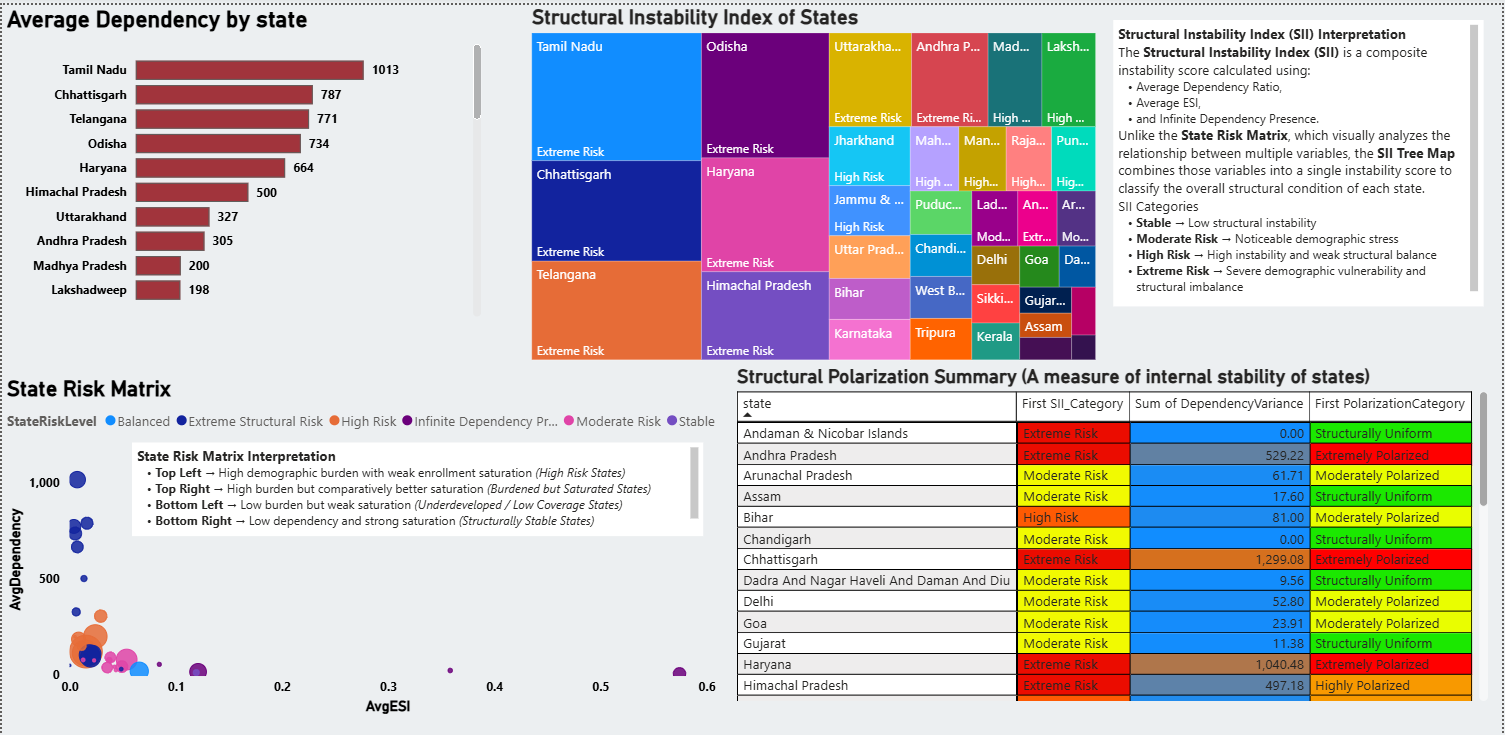

Layout of this report page (visuals, bound fields, positions):
{"tool":"powerbi","page":{"name":"Structural Instability & Risk Analytics","canvas":[1500,730],"ordinal":1},"visuals":[{"type":"barChart","title":"Average Dependency by state","fields":{"Category":["StateSummary.state"],"Y":["Sum(StateSummary.AvgDependency)"]},"box":[0,0,484.2,316.7],"z":0},{"type":"scatterChart","title":"State Risk Matrix","fields":{"X":["StateSummary.AvgESI"],"Y":["StateSummary.AvgDependency"],"Size":["Sum(StateSummary.TotalEnrollment)"],"Series":["StateSummary.StateRiskLevel"]},"box":[0,371.2,718.8,342.5],"z":1000},{"type":"treemap","title":"Structural Instability Index of States","fields":{"Group":["StateSummary.state"],"Values":["Sum(StateSummary.StructuralInstabilityIndex)"],"Details":["StateSummary.SII_Category"]},"box":[525,0,573.8,360],"z":2000},{"type":"pivotTable","title":"Structural Polarization Summary (A measure of internal stability of states)","fields":{"Rows":["StateSummary.state"],"Values":["Min(StateSummary.SII_Category)","Sum(StateSummary.DependencyVariance)","Min(StateSummary.PolarizationCategory)"]},"box":[730,360,761.2,341.2],"z":3000},{"type":"textbox","box":[130,437.5,571.2,93.8],"z":4000},{"type":"textbox","box":[1111.2,15,370,286.2],"z":5000}]}

Visuals, with their boxes in screenshot pixels (x1, y1, x2, y2), scaled from the page's 1500x730 canvas onto the 1505x735 screenshot:
"Average Dependency by state" barChart: select_region(0, 0, 486, 319)
"State Risk Matrix" scatterChart: select_region(0, 374, 721, 719)
"Structural Instability Index of States" treemap: select_region(527, 0, 1102, 362)
"Structural Polarization Summary (A measure of internal stability of states)" pivotTable: select_region(732, 362, 1496, 706)
textbox: select_region(130, 440, 704, 535)
textbox: select_region(1115, 15, 1486, 303)
